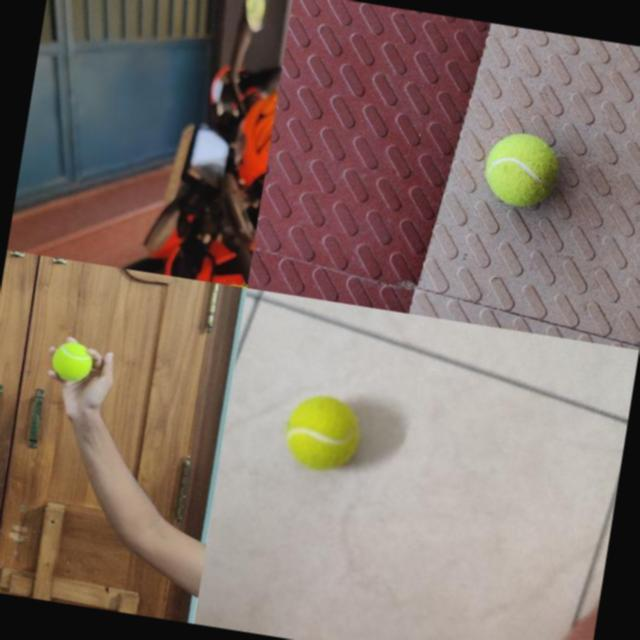tennis-ball: (480, 128, 564, 212), (282, 392, 364, 474), (49, 339, 96, 385)
